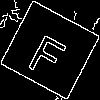F: (25, 25, 73, 80)
